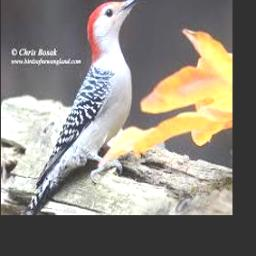Woodpecker: (22, 0, 149, 215)
